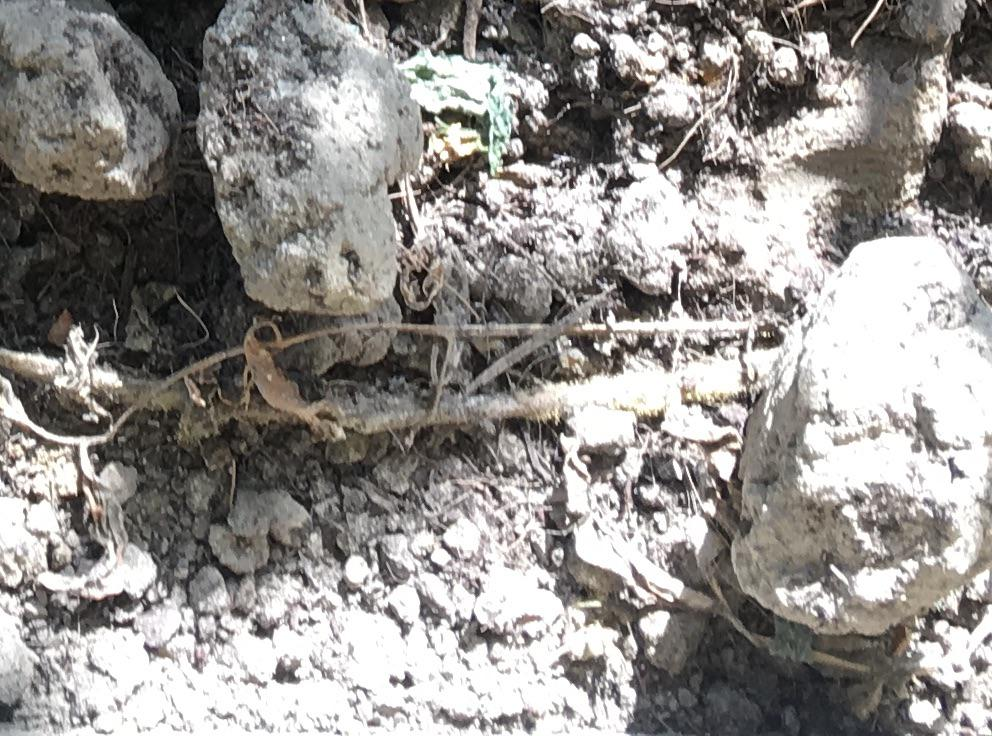block: (733, 240, 992, 644), (210, 1, 424, 313), (1, 1, 178, 204)
